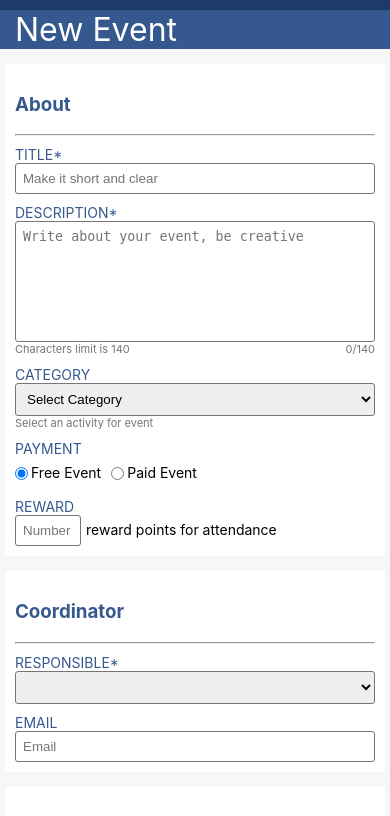
it: should show error on invalid email
Type "test" into the field with placeholder "Email" at (195, 746), box [15,731,375,762]
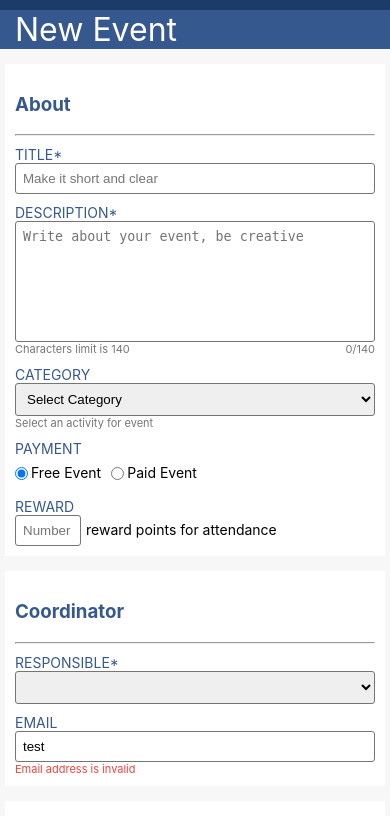
Check: the text with test id "form-field-error-ipad-Email" reads "Email address is invalid", box [15,762,136,776]
